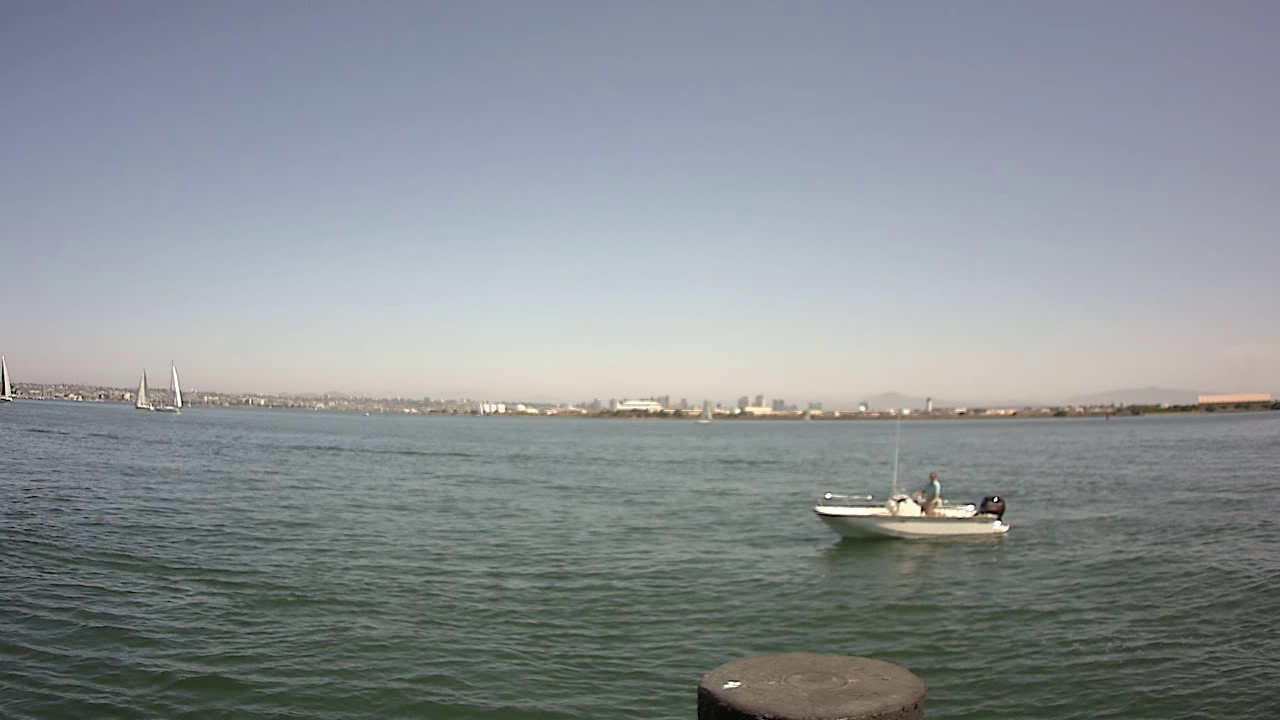target: (812, 466, 1016, 548)
